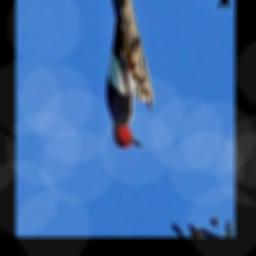Woodpecker: (97, 0, 148, 161)
